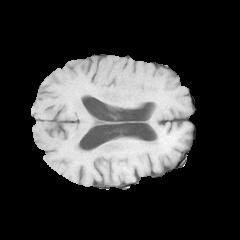glioma: (80, 135, 164, 160)
